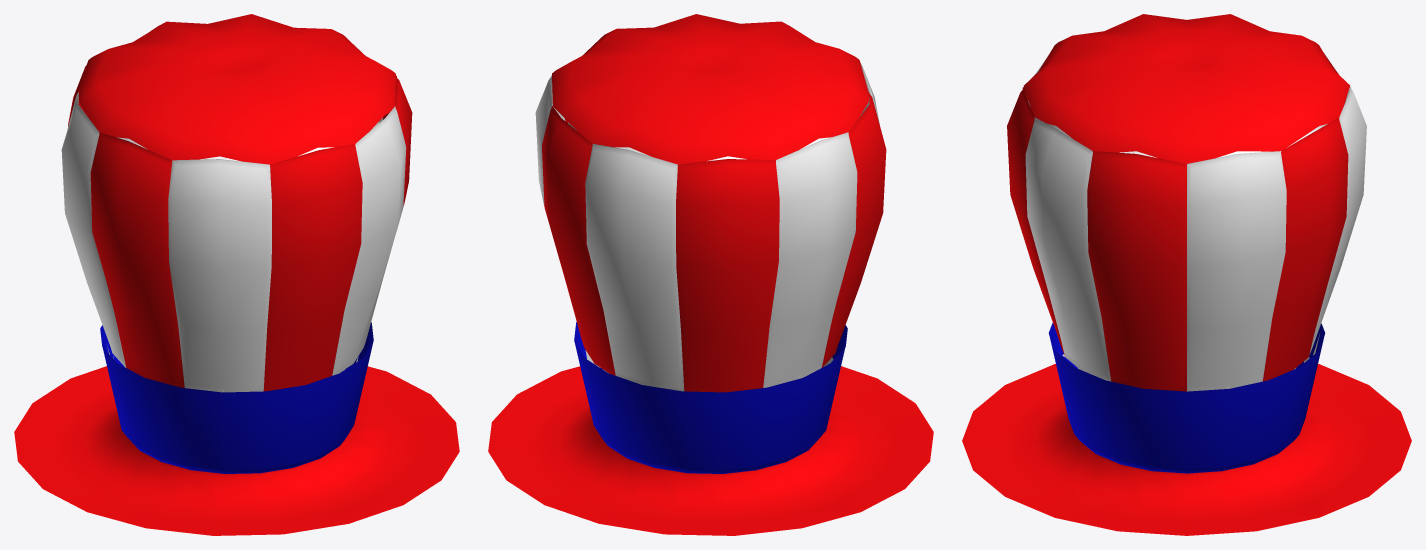
The model's file is 4thJulyHat.fbx.
The picture shows the model from 3 angles, left to right: view 1: azimuth 30°, elevation 25°; view 2: azimuth 150°, elevation 25°; view 3: azimuth 270°, elevation 25°; orthographic projection.
Parts seen in each view (by area): view 1: 4thJulyHat; view 2: 4thJulyHat; view 3: 4thJulyHat.
Part boxes in pixels (bbox=[...]): 4thJulyHat: bbox=[14, 14, 459, 535]; 4thJulyHat: bbox=[488, 14, 933, 535]; 4thJulyHat: bbox=[962, 14, 1411, 535].
Bounding box in the file's own units: 200 × 189 × 200.
